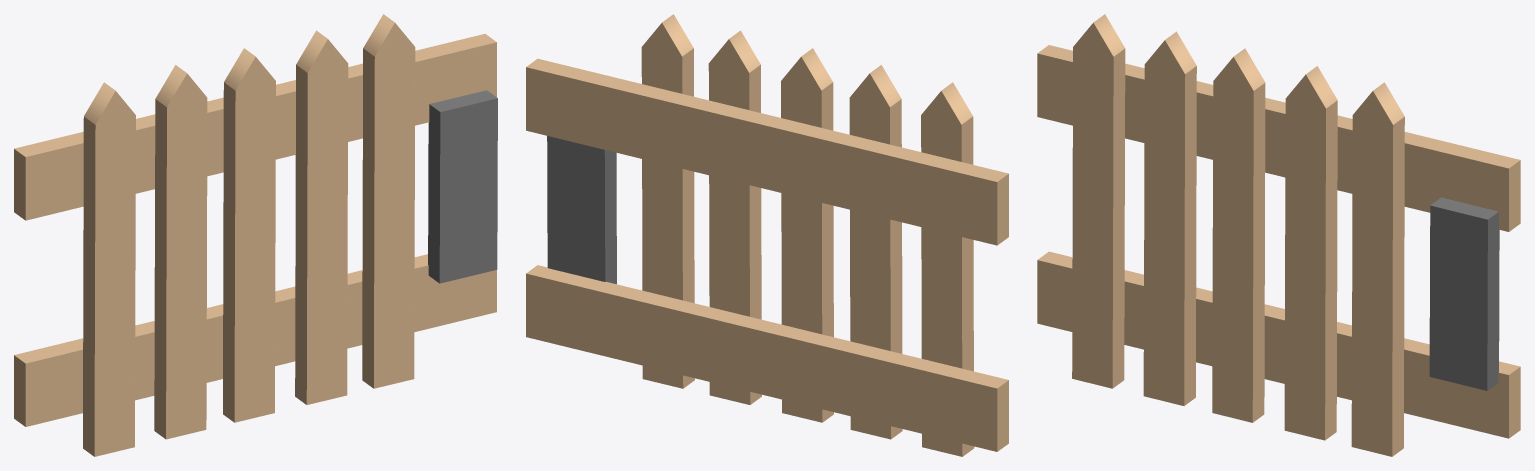
File: Gate.fbx
The picture shows the model from 3 angles, left to right: view 1: azimuth 30°, elevation 25°; view 2: azimuth 150°, elevation 25°; view 3: azimuth 330°, elevation 25°; orthographic projection.
Visible parts, largest first — view 1: Pfahl12, Pfahl1, Pfahl11, Pfahl14, Pfahl13, Planke1, Planke4, Pfahl15; view 2: Planke1, Planke4, Pfahl1, Pfahl12, Pfahl14, Pfahl13, Pfahl11, Pfahl15; view 3: Pfahl12, Pfahl1, Pfahl13, Pfahl11, Pfahl14, Planke1, Planke4, Pfahl15.
Part boxes in pixels (bbox=[...]): Pfahl12: bbox=[223, 48, 275, 422]; Pfahl1: bbox=[83, 82, 135, 456]; Pfahl11: bbox=[154, 65, 207, 439]; Pfahl14: bbox=[362, 14, 415, 388]; Pfahl13: bbox=[295, 30, 348, 404]; Planke1: bbox=[14, 34, 496, 220]; Planke4: bbox=[14, 254, 496, 426]; Pfahl15: bbox=[428, 90, 497, 283]; Planke1: bbox=[526, 58, 1008, 245]; Planke4: bbox=[526, 265, 1008, 451]; Pfahl1: bbox=[921, 82, 974, 456]; Pfahl12: bbox=[781, 48, 833, 422]; Pfahl14: bbox=[641, 14, 694, 388]; Pfahl13: bbox=[708, 30, 761, 404]; Pfahl11: bbox=[849, 65, 902, 439]; Pfahl15: bbox=[547, 136, 616, 284]; Pfahl12: bbox=[1212, 48, 1265, 422]; Pfahl1: bbox=[1072, 14, 1125, 388]; Pfahl13: bbox=[1284, 66, 1337, 440]; Pfahl11: bbox=[1143, 31, 1196, 405]; Pfahl14: bbox=[1351, 82, 1404, 456]; Planke1: bbox=[1037, 45, 1520, 231]; Planke4: bbox=[1037, 251, 1520, 438]; Pfahl15: bbox=[1429, 197, 1499, 390].
Bounding box in the file's own units: 117 × 85.34 × 12.29.
2 materials, 2 textured.
